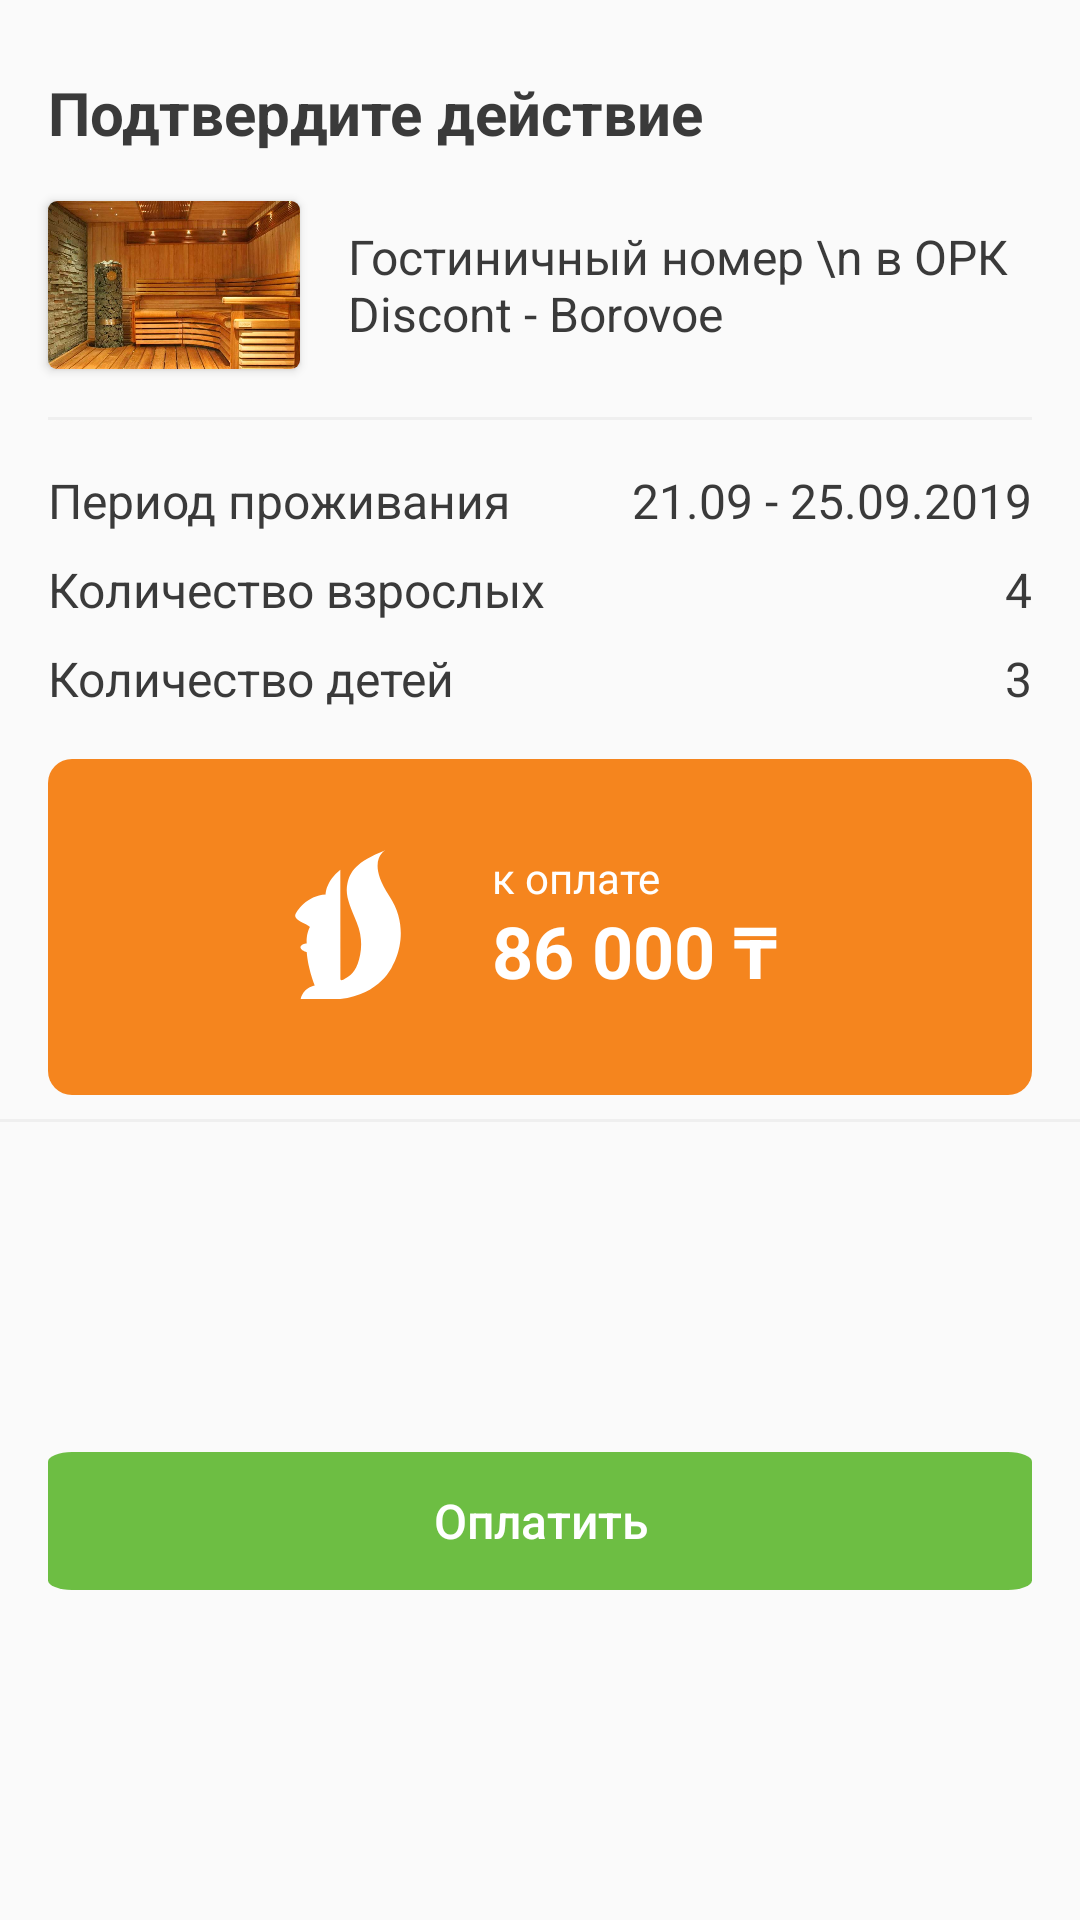

Icon click points for this 1080px×1920px phone screenshot, format point (x, y):
banya: point (174, 285)
